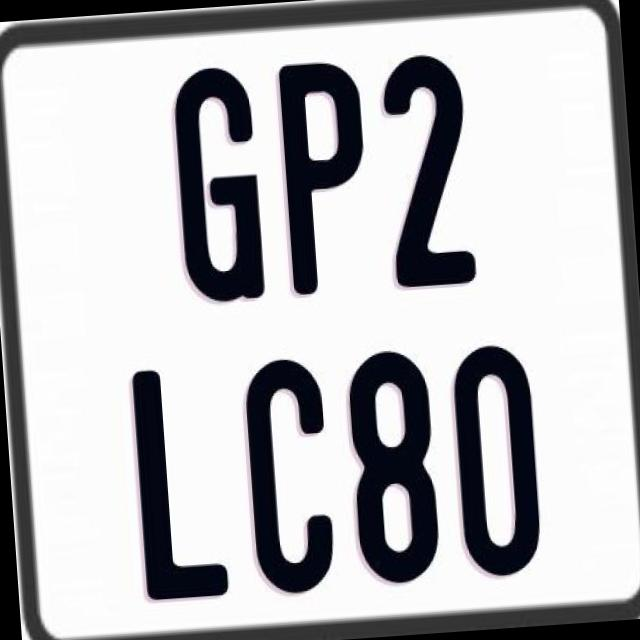0: (448, 338, 546, 572)
2: (378, 47, 476, 287)
8: (340, 346, 440, 592)
C: (238, 356, 336, 596)
G: (171, 62, 271, 310)
L: (132, 366, 234, 608)
P: (278, 59, 376, 298)
